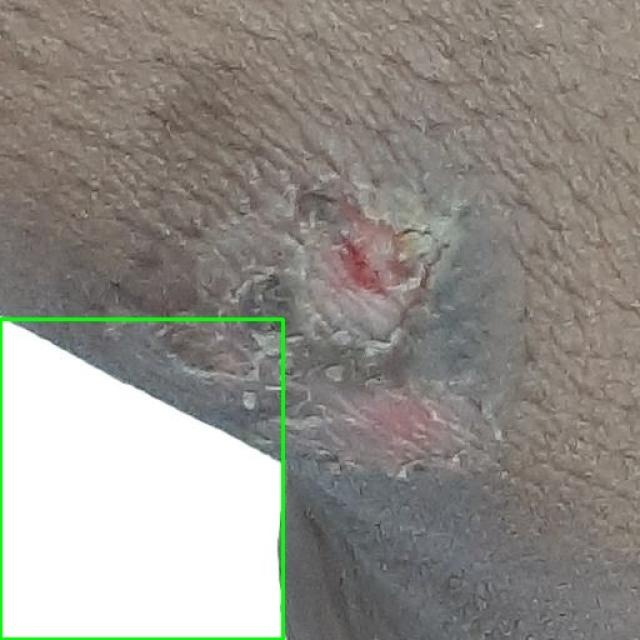Contact Dermatitis: (0, 319, 282, 639)
